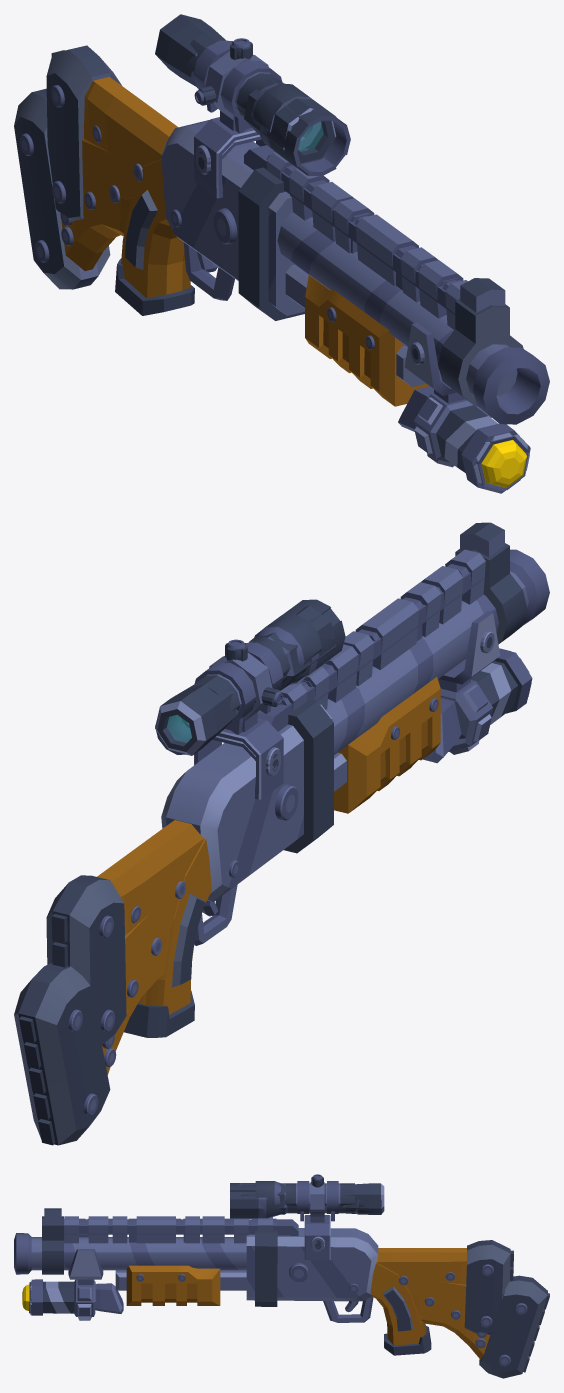
File: Shot gun1.fbx
The picture shows the model from 3 angles, top to bottom: view 1: azimuth 30°, elevation 25°; view 2: azimuth 150°, elevation 25°; view 3: azimuth 270°, elevation 25°; orthographic projection. The views are drawn at different scales.
Visible parts, largest first — view 1: ShotGunBase, ShotGunHandle2, ShotGunHandle3, ShotgunFonar3, ShotgunDetal3, ShotgunAim2, ShotgunAim3, ShotgunAim1, ShotGunHandle1, ShotgunDetal2, ShotgunDetal1, ShotgunFonar1 (+1 smaller); view 2: ShotGunBase, ShotGunHandle2, ShotGunHandle3, ShotgunAim1, ShotgunDetal3, ShotgunFonar3, ShotgunAim2, ShotGunHandle1, ShotgunAim3, ShotgunDetal2, ShotgunDetal1, ShotgunFonar1 (+1 smaller); view 3: ShotGunBase, ShotGunHandle3, ShotGunHandle2, ShotGunHandle1, ShotgunFonar3, ShotgunDetal3, ShotgunAim3, ShotgunAim2, ShotgunDetal2, ShotgunAim1, ShotgunDetal1, ShotgunFonar1.
Boxes of the visible parts, x1,y1,x2,y2 form: ShotGunBase: [161, 120, 549, 424]; ShotGunHandle2: [14, 88, 194, 315]; ShotGunHandle3: [46, 45, 178, 221]; ShotgunFonar3: [398, 322, 529, 492]; ShotgunDetal3: [264, 150, 467, 329]; ShotgunAim2: [185, 33, 321, 198]; ShotgunAim3: [194, 38, 350, 191]; ShotgunAim1: [155, 14, 336, 182]; ShotGunHandle1: [14, 117, 125, 279]; ShotgunDetal2: [244, 145, 461, 314]; ShotgunDetal1: [317, 186, 446, 308]; ShotgunFonar1: [405, 343, 530, 493]; ShotGunBase: [161, 522, 549, 945]; ShotGunHandle2: [14, 837, 211, 1145]; ShotGunHandle3: [46, 820, 203, 1045]; ShotgunAim1: [155, 605, 336, 799]; ShotgunDetal3: [258, 549, 485, 719]; ShotgunFonar3: [423, 611, 531, 763]; ShotgunAim2: [182, 614, 321, 788]; ShotGunHandle1: [14, 905, 164, 1144]; ShotgunAim3: [155, 599, 345, 794]; ShotgunDetal2: [257, 564, 484, 731]; ShotgunDetal1: [335, 570, 458, 697]; ShotgunFonar1: [472, 631, 532, 713]; ShotGunBase: [14, 1208, 378, 1322]; ShotGunHandle3: [377, 1240, 513, 1334]; ShotGunHandle2: [370, 1260, 549, 1378]; ShotGunHandle1: [419, 1281, 547, 1373]; ShotgunFonar3: [22, 1234, 123, 1320]; ShotgunDetal3: [64, 1216, 292, 1243]; ShotgunAim3: [230, 1174, 381, 1257]; ShotgunAim2: [255, 1181, 354, 1260]; ShotgunDetal2: [64, 1218, 298, 1242]; ShotgunAim1: [239, 1182, 384, 1259]; ShotgunDetal1: [86, 1216, 251, 1243]; ShotgunFonar1: [31, 1271, 97, 1315].
Bounding box in the file's own units: 0.4697 × 2.12 × 5.13.
